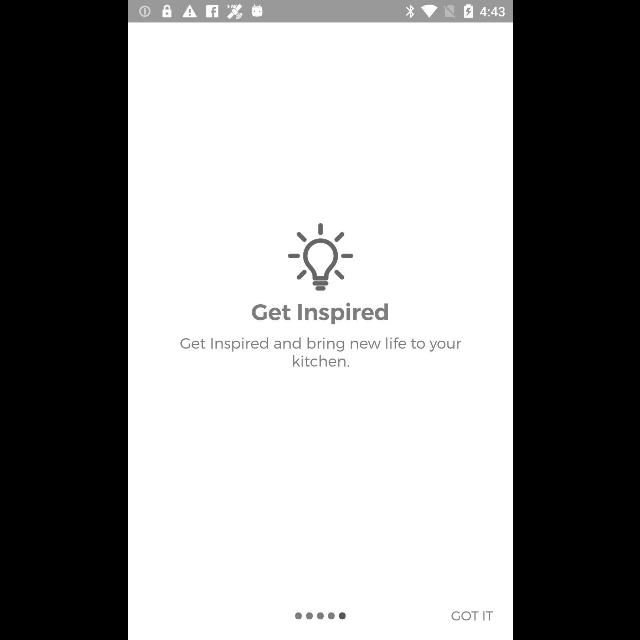image: (288, 223, 352, 291)
pageindicator: (294, 612, 346, 620)
text: (180, 337, 460, 367), (251, 303, 387, 325), (450, 612, 492, 620)
uppertaskbar: (128, 1, 512, 23)
